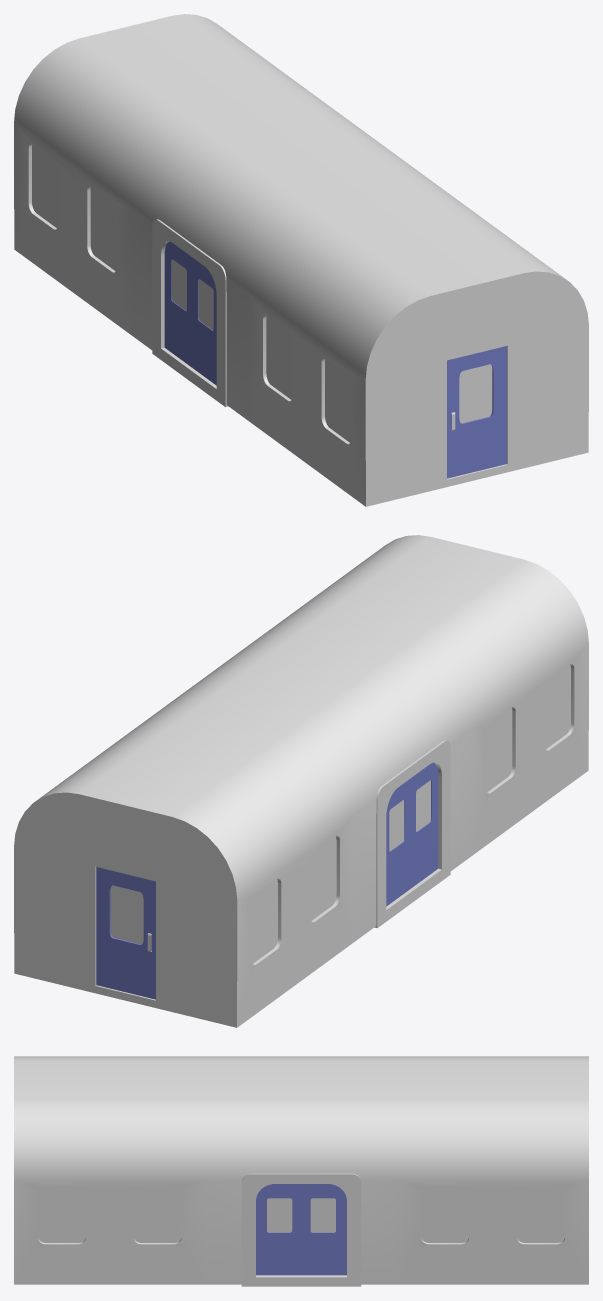
Rendered from train.fbx.
The picture shows the model from 3 angles, top to bottom: view 1: azimuth 30°, elevation 25°; view 2: azimuth 150°, elevation 25°; view 3: azimuth 270°, elevation 25°; orthographic projection. The views are drawn at different scales.
Parts seen in each view (by area): view 1: Plane.006, Inside Door, Plane.009, Plane.015; view 2: Plane.006, Inside Door, Plane.015, Plane.009; view 3: Plane.006, Plane.015, Plane.009.
Part boxes in pixels (<box>): Plane.006: <box>14,14,588,506</box>; Inside Door: <box>447,346,506,478</box>; Plane.009: <box>164,241,192,367</box>; Plane.015: <box>192,257,216,385</box>; Plane.006: <box>14,535,588,1027</box>; Inside Door: <box>96,867,155,999</box>; Plane.015: <box>410,762,438,888</box>; Plane.009: <box>386,778,410,906</box>; Plane.006: <box>14,1056,588,1286</box>; Plane.015: <box>256,1184,301,1275</box>; Plane.009: <box>301,1184,346,1275</box>.
Size of the model in its own units: 666 by 557 by 1800.
